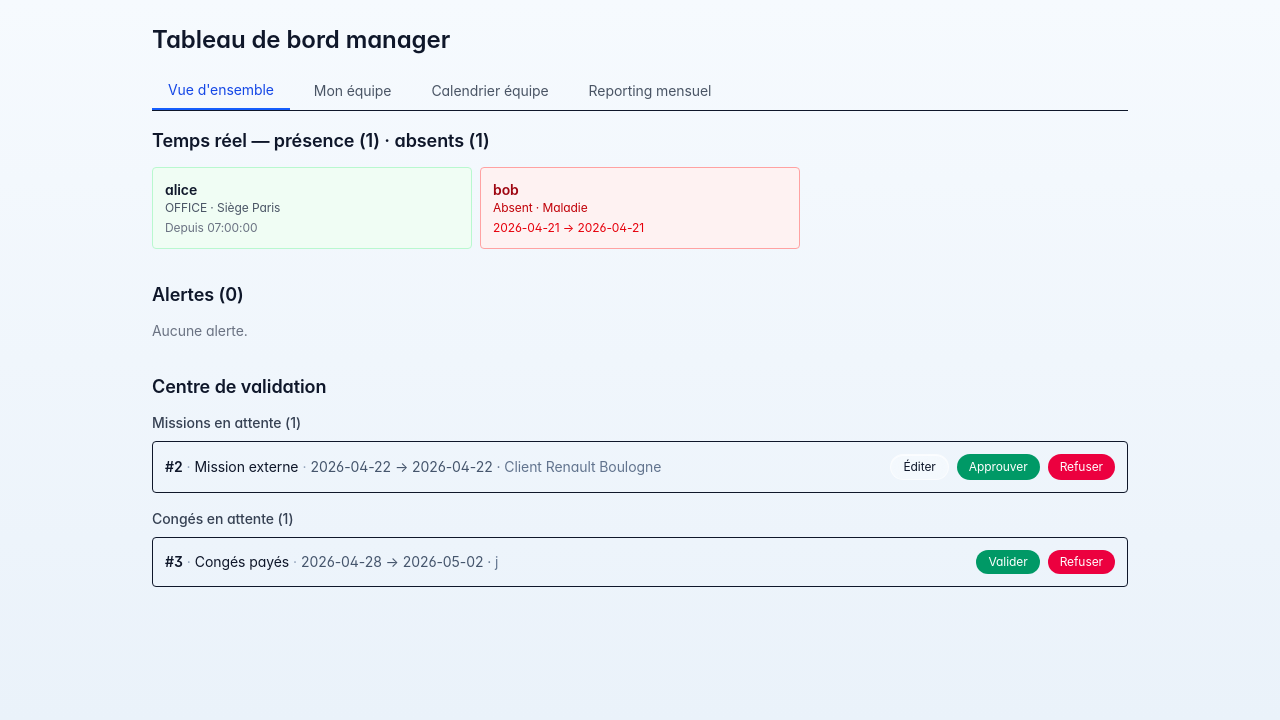
Test: ManagerDashboard — reporting tab › loads the report on tab change and lets the user pick a month
This screenshot has width=1280, height=720.
Expected: the heading "Temps réel — présence (1) · absents (1)" is shown, x1=152 y1=130 x2=490 y2=151
Click the button "Reporting mensuel": click(650, 91) x1=573 y1=72 x2=727 y2=110
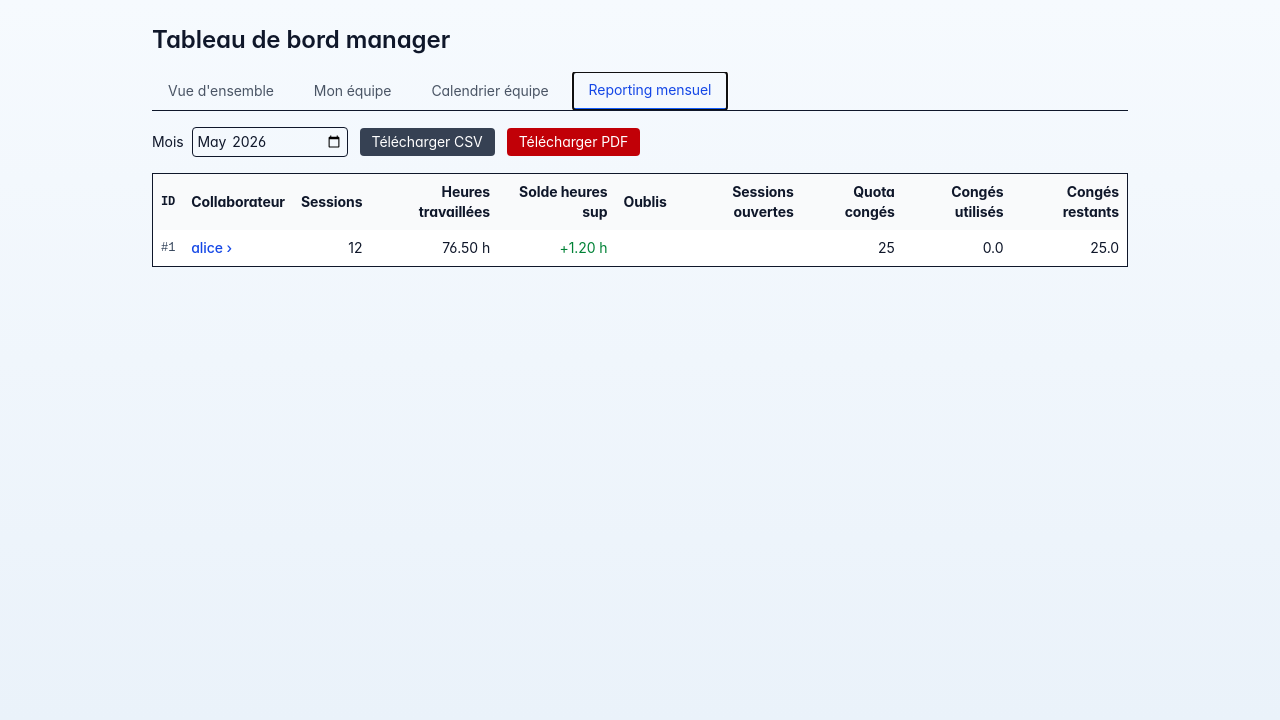
Now the text "alice ›" is shown, box x1=183 y1=230 x2=293 y2=266
Now the text "76.50 h" is shown, box x1=370 y1=230 x2=498 y2=266
Now the text "+1.20 h" is shown, box x1=498 y1=230 x2=615 y2=266
